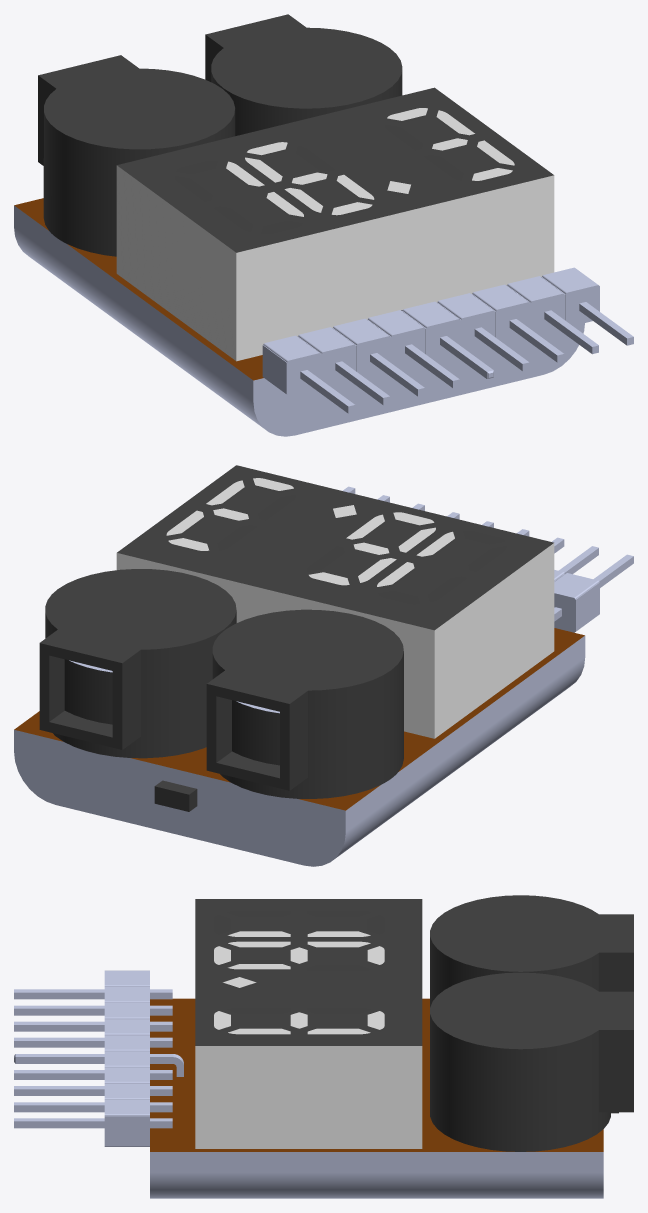
The model's file is battery_indicator.fbx.
3 renders of one model, top to bottom at view 1: azimuth 30°, elevation 25°; view 2: azimuth 150°, elevation 25°; view 3: azimuth 270°, elevation 25°, orthographic. The views are drawn at different scales.
Visible parts, largest first — view 1: Baterijas testeris001.001, Text, Text.001; view 2: Baterijas testeris001.001, Text, Text.001; view 3: Baterijas testeris001.001, Text, Text.001.
Part boxes in pixels (box(x1,y1,x2,y2)): Baterijas testeris001.001: box(14, 14, 633, 436); Text: box(226, 108, 514, 216); Text.001: box(175, 110, 514, 233); Baterijas testeris001.001: box(14, 465, 633, 866); Text: box(166, 478, 454, 586); Text.001: box(166, 480, 506, 604); Baterijas testeris001.001: box(14, 895, 633, 1198); Text: box(214, 931, 384, 1034); Text.001: box(214, 911, 384, 1035).
Bounding box in the file's own units: 2410 × 1219 × 4100.
